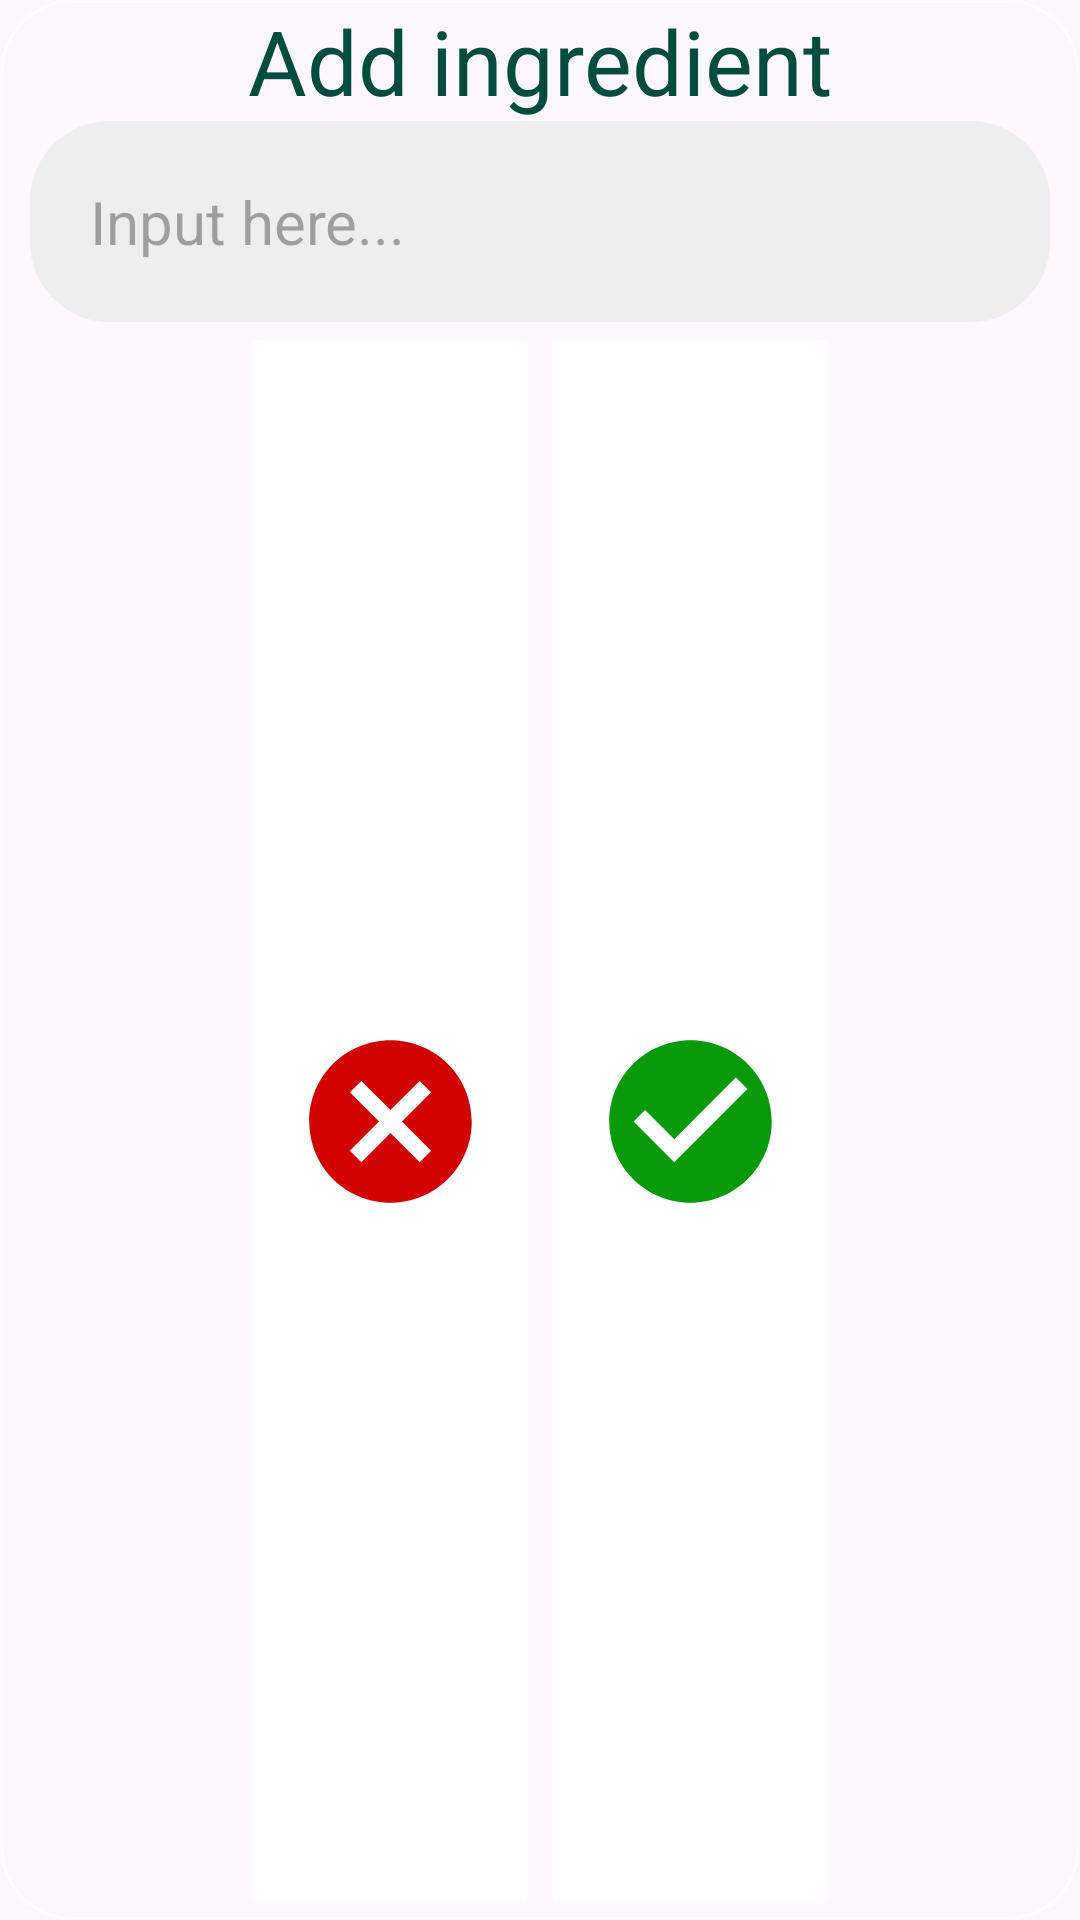

Point at icon controls on the screen. Image size 1080 × 1920, points as point (x, y).
cancel: point (390, 1121)
check circle: point (690, 1121)
